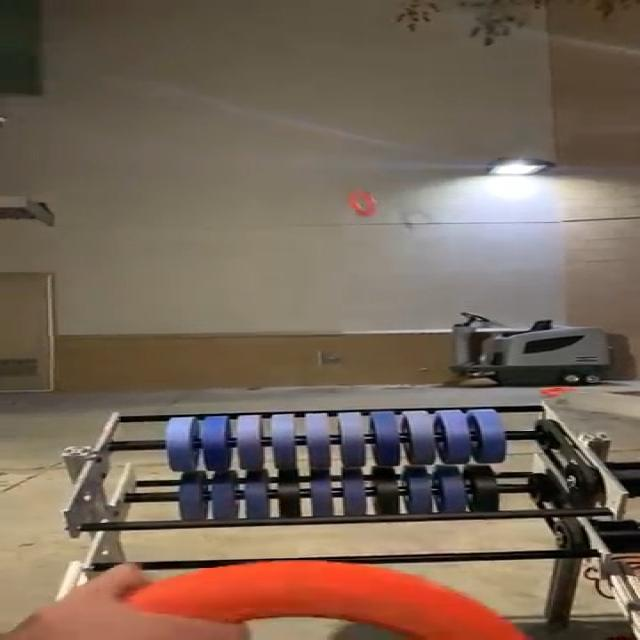note: (112, 563, 538, 640), (340, 189, 380, 217), (538, 382, 579, 397)
